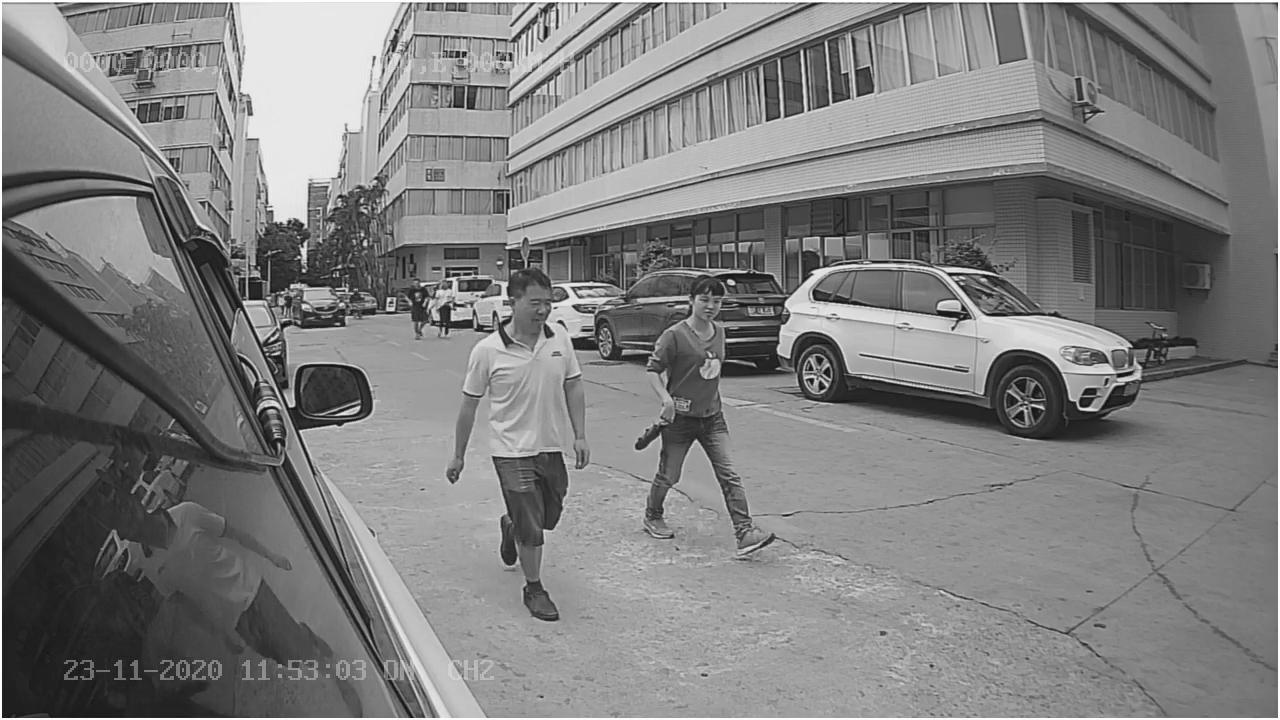person: (451, 272, 590, 605), (644, 275, 755, 554)
